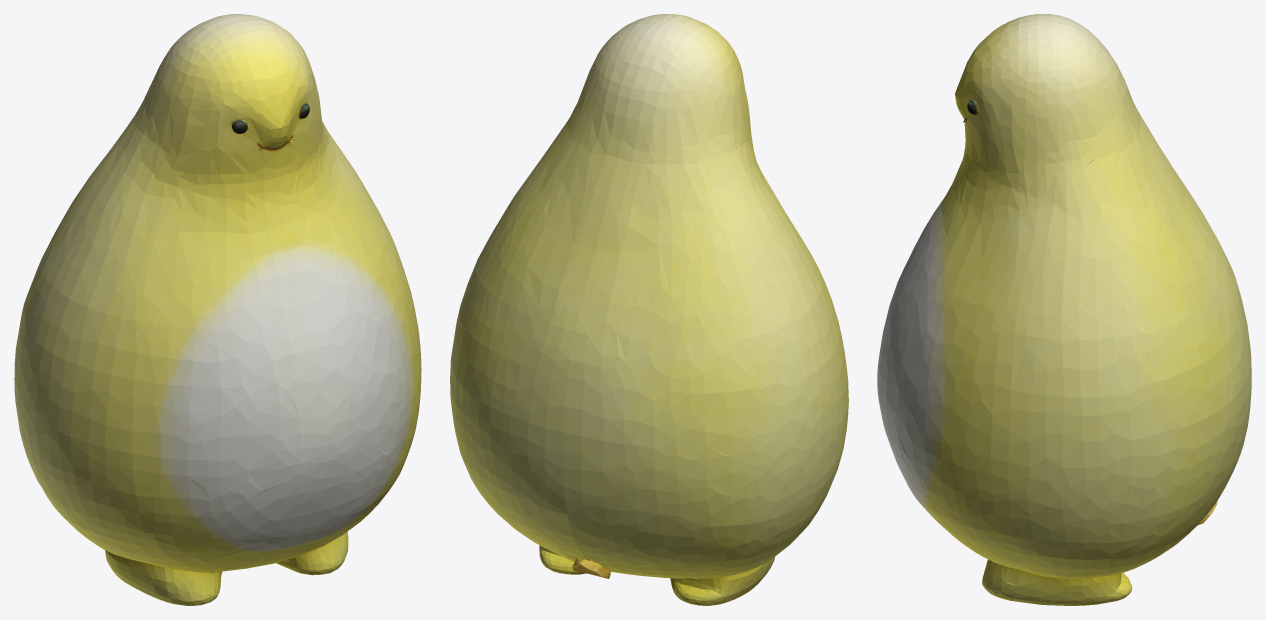
The model's file is bottle.glb.
The picture shows the model from 3 angles, left to right: view 1: azimuth 30°, elevation 25°; view 2: azimuth 150°, elevation 25°; view 3: azimuth 270°, elevation 25°; orthographic projection. The views are drawn at different scales.
Parts seen in each view (by area): view 1: geometry_0; view 2: geometry_0; view 3: geometry_0.
Boxes of the visible parts, x1,y1,x2,y2 form: geometry_0: [14, 14, 421, 605]; geometry_0: [450, 14, 848, 605]; geometry_0: [877, 14, 1251, 605].
Size of the model in its own units: 0.0532 by 0.078 by 0.0491.
Materials: 1 (1 with a texture image).
